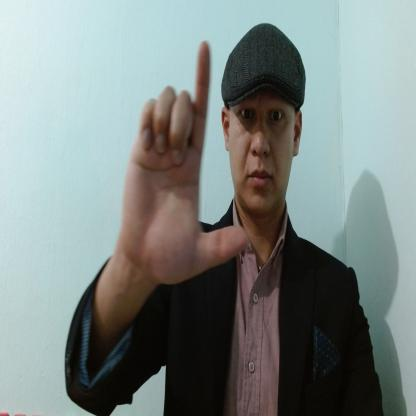L: (123, 41, 250, 285)
